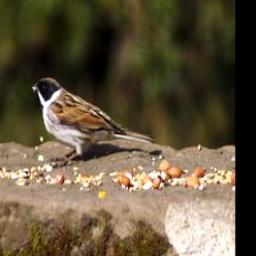Sparrow: (29, 75, 153, 165)
